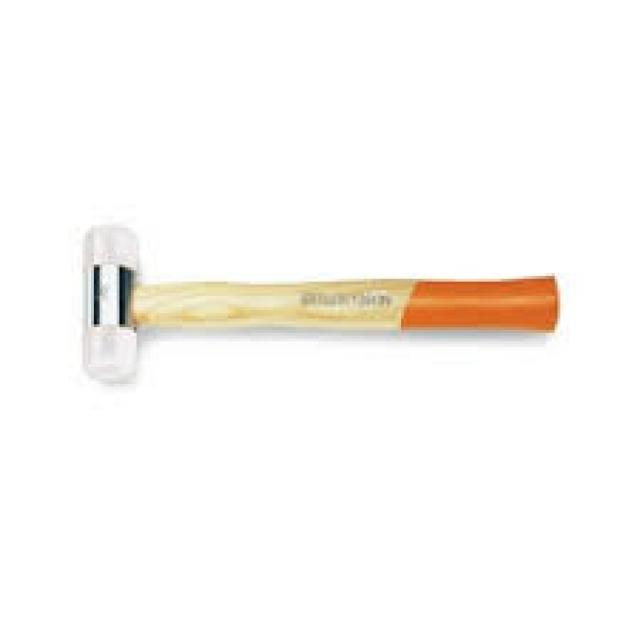hammer: (65, 212, 578, 396)
